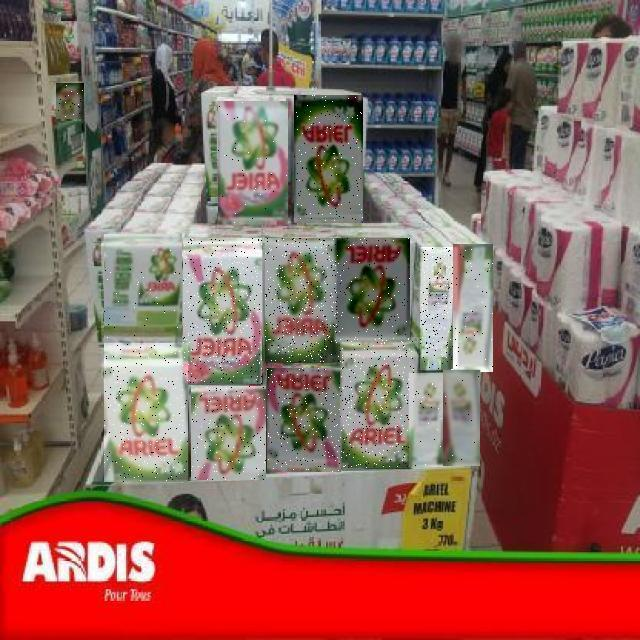Detergent: (104, 343, 188, 482), (183, 238, 262, 384), (104, 234, 182, 358), (340, 338, 414, 468), (266, 238, 340, 362), (294, 95, 363, 223), (218, 102, 288, 224), (267, 368, 341, 472), (338, 238, 410, 342), (191, 386, 266, 480), (453, 245, 493, 373), (420, 247, 458, 370), (443, 371, 480, 467), (409, 373, 443, 467), (56, 83, 84, 119)
